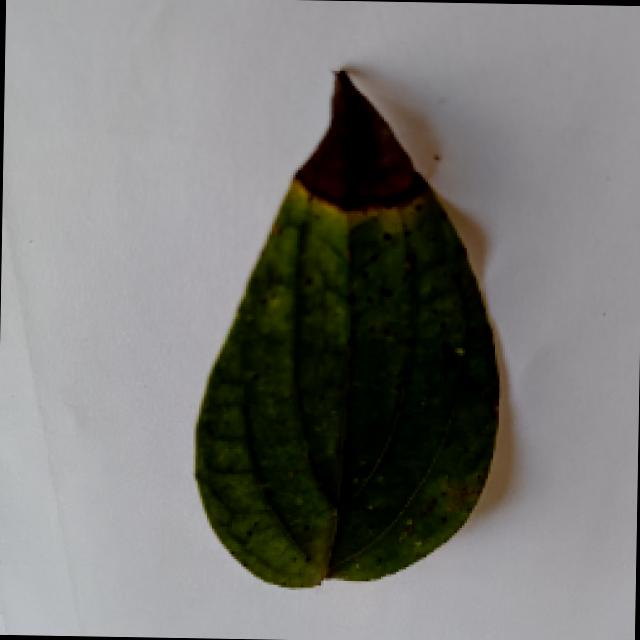footrot: (183, 70, 522, 593)
